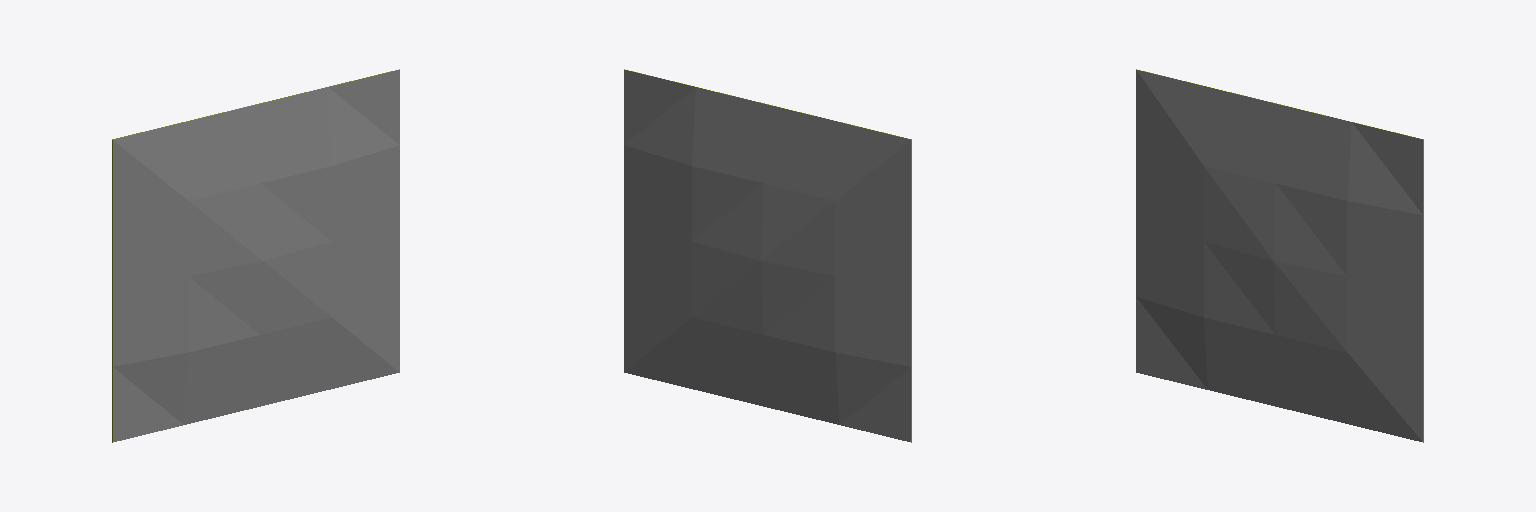
Rendered from apositoabsorvente.obj.
3 views of the same model, side by side, from view 1: azimuth 30°, elevation 25°; view 2: azimuth 150°, elevation 25°; view 3: azimuth 330°, elevation 25° (orthographic).
Visible parts, largest first — view 1: c002; view 2: c002; view 3: c002.
Boxes of the visible parts, x1,y1,x2,y2 form: c002: [112, 69, 399, 442]; c002: [624, 69, 911, 442]; c002: [1136, 69, 1423, 442].
Size of the model in its own units: 0.8318 by 0.8382 by 0.0666.